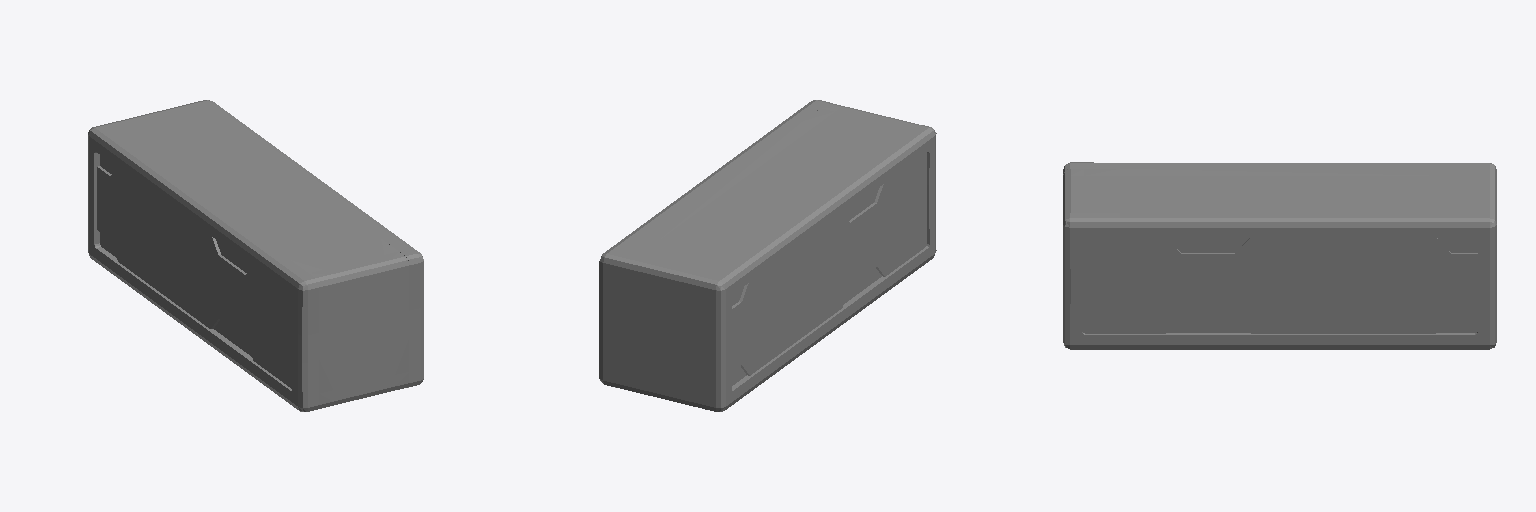
The model's file is cpz_obj_floor_6bx_M.obj.
3 renders of one model, left to right at view 1: azimuth 30°, elevation 25°; view 2: azimuth 150°, elevation 25°; view 3: azimuth 270°, elevation 25°, orthographic.
Visible parts, largest first — view 1: cpz_metal_yy1_ylwflor_Cmn_dpn, ccp_metal_yy_floor2_Lumi_dpnE, ccp_metal_yy_gray02_Lumin_dpnE, cpz_yy1_road_cmn_dp, cpz_metal_yy_slop_cmn_dpn, cpz_metal_tn1_wirenet_001; view 2: cpz_metal_yy1_ylwflor_Cmn_dpn, ccp_metal_yy_floor2_Lumi_dpnE, ccp_metal_yy_gray02_Lumin_dpnE, cpz_yy1_road_cmn_dp, cpz_metal_yy_slop_cmn_dpn, cpz_metal_tn1_wirenet_001; view 3: ccp_metal_yy_gray02_Lumin_dpnE, cpz_metal_yy1_ylwflor_Cmn_dpn, ccp_metal_yy_floor2_Lumi_dpnE, cpz_metal_yy_slop_cmn_dpn, cpz_yy1_road_cmn_dp, cpz_metal_tn1_wirenet_001.
Part boxes in pixels (left/top/right/bottom): cpz_metal_yy1_ylwflor_Cmn_dpn: left=88, top=103, right=423, bottom=408; ccp_metal_yy_floor2_Lumi_dpnE: left=127, top=111, right=394, bottom=389; ccp_metal_yy_gray02_Lumin_dpnE: left=97, top=170, right=291, bottom=385; cpz_yy1_road_cmn_dp: left=113, top=108, right=408, bottom=393; cpz_metal_yy_slop_cmn_dpn: left=88, top=100, right=423, bottom=411; cpz_metal_tn1_wirenet_001: left=100, top=155, right=408, bottom=356; cpz_metal_yy1_ylwflor_Cmn_dpn: left=599, top=103, right=935, bottom=408; ccp_metal_yy_floor2_Lumi_dpnE: left=629, top=112, right=895, bottom=389; ccp_metal_yy_gray02_Lumin_dpnE: left=732, top=153, right=926, bottom=370; cpz_yy1_road_cmn_dp: left=615, top=108, right=909, bottom=393; cpz_metal_yy_slop_cmn_dpn: left=599, top=100, right=936, bottom=411; cpz_metal_tn1_wirenet_001: left=732, top=187, right=881, bottom=385; ccp_metal_yy_gray02_Lumin_dpnE: left=1082, top=240, right=1477, bottom=330; cpz_metal_yy1_ylwflor_Cmn_dpn: left=1063, top=163, right=1496, bottom=349; ccp_metal_yy_floor2_Lumi_dpnE: left=1084, top=176, right=1476, bottom=205; cpz_metal_yy_slop_cmn_dpn: left=1063, top=162, right=1496, bottom=349; cpz_yy1_road_cmn_dp: left=1084, top=169, right=1476, bottom=212; cpz_metal_tn1_wirenet_001: left=1167, top=238, right=1477, bottom=332.
Bounding box in the file's own units: 72.04 × 72.04 × 216.